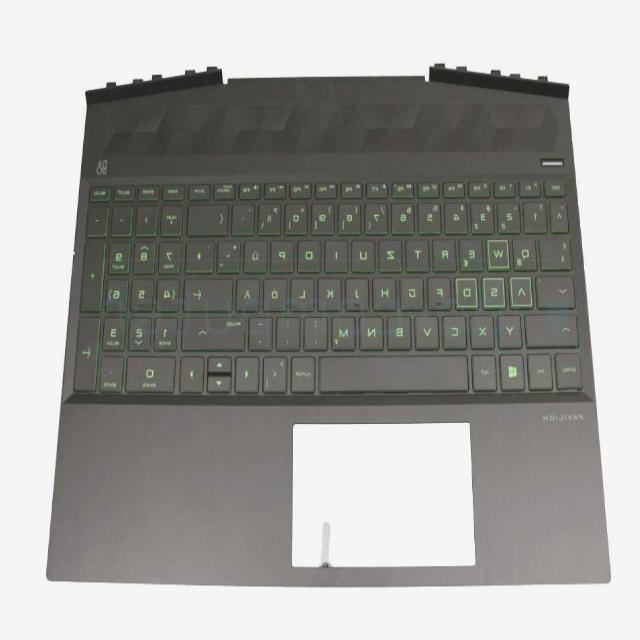0: (287, 199, 310, 231)
1: (526, 196, 550, 230)
2: (499, 197, 523, 231)
3: (473, 197, 497, 231)
4: (447, 198, 471, 232)
5: (420, 198, 444, 232)
6: (393, 198, 417, 232)
7: (367, 198, 390, 232)
8: (340, 199, 364, 231)
9: (313, 199, 337, 231)
a: (512, 271, 536, 305)
accent: (234, 199, 258, 231)
ae: (238, 273, 262, 309)
alt-left: (474, 351, 500, 389)
altgr-right: (293, 352, 318, 390)
b: (389, 311, 415, 347)
c: (444, 310, 470, 346)
caret: (552, 196, 571, 230)
comma: (306, 311, 331, 347)
d: (457, 273, 481, 305)
del: (190, 200, 231, 232)
e: (461, 235, 486, 269)
enter: (186, 273, 236, 309)
f: (430, 273, 454, 307)
g: (402, 273, 427, 307)
h: (375, 272, 400, 308)
hash: (187, 237, 217, 271)
i: (326, 235, 350, 269)
j: (347, 272, 371, 308)
k: (320, 272, 344, 308)
keyboard: (66, 163, 594, 407)
l: (293, 272, 318, 308)
less: (265, 351, 291, 391)
m: (333, 310, 359, 348)
minus: (251, 311, 275, 347)
n: (361, 311, 387, 347)
o: (299, 235, 324, 269)
oe: (265, 274, 289, 308)
p: (273, 236, 297, 270)
plus: (219, 235, 243, 271)
point: (279, 311, 303, 347)
q: (515, 234, 541, 268)
r: (434, 235, 459, 269)
s: (484, 273, 508, 305)
shift-left: (527, 308, 581, 344)
shift-lock: (539, 272, 579, 306)
shift-right: (184, 311, 249, 347)
space: (320, 350, 471, 390)
ss: (261, 199, 285, 231)
strg-left: (557, 347, 585, 387)
t: (407, 235, 432, 269)
tab: (542, 234, 574, 268)
u: (353, 234, 378, 270)
ue: (246, 235, 270, 271)
v: (417, 310, 442, 346)
w: (489, 235, 512, 267)
x: (472, 310, 498, 346)
y: (499, 309, 525, 347)
z: (380, 234, 405, 270)
